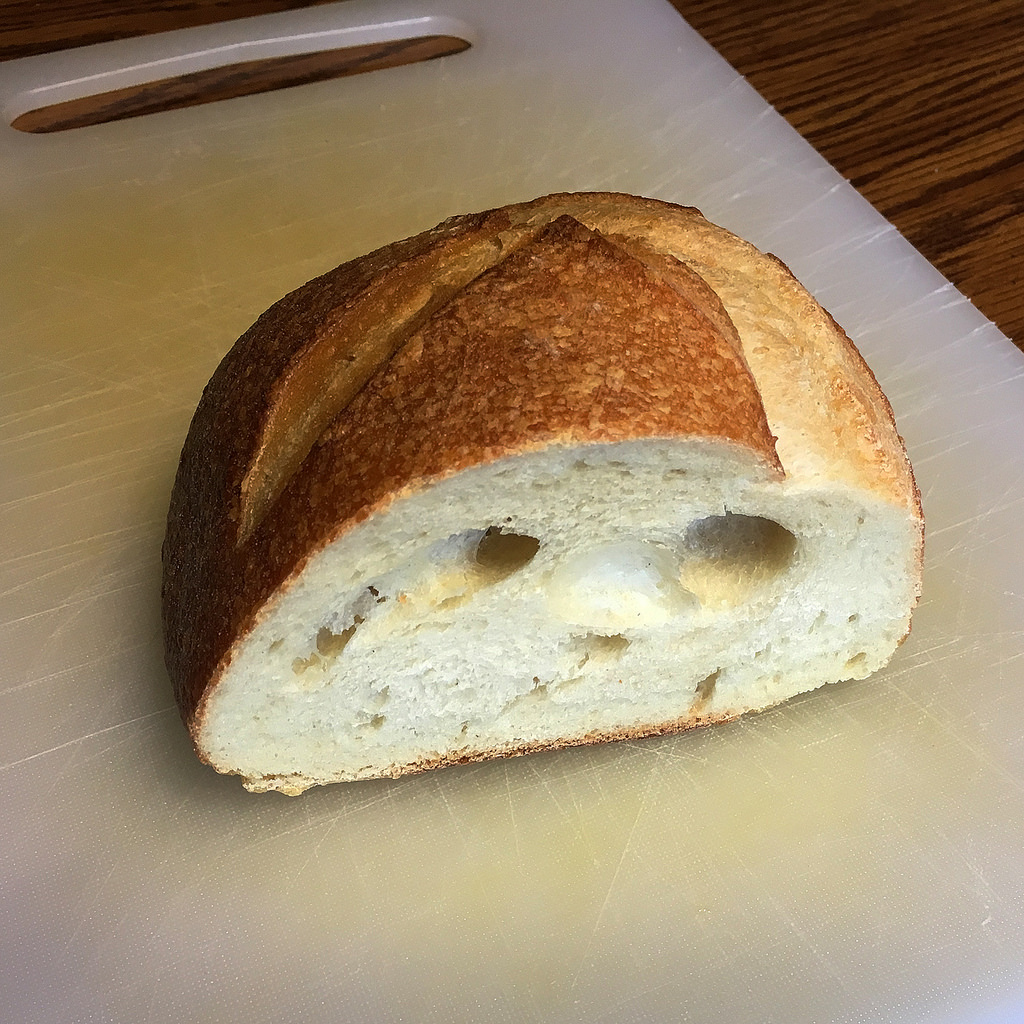slice of bread: (178, 273, 927, 753)
